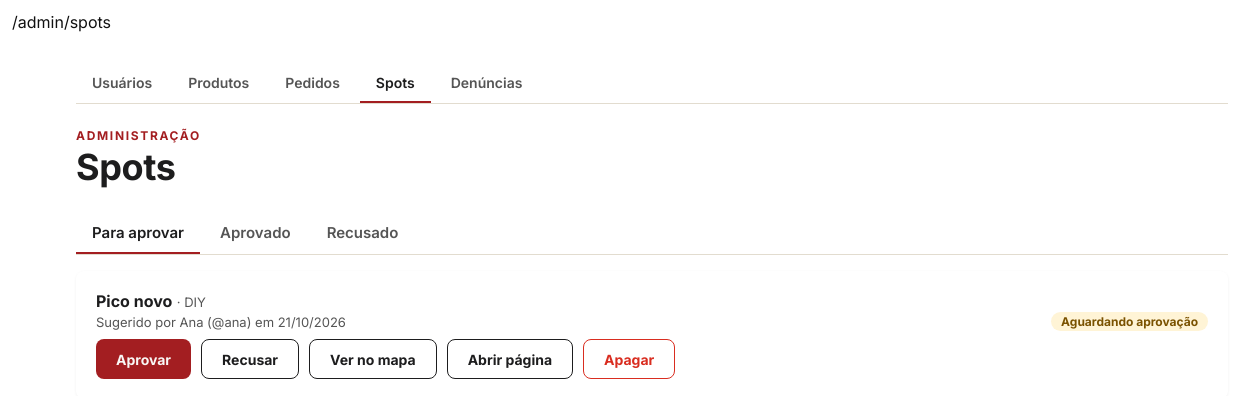
Test case: painel: spots › aprova uma sugestão e recarrega a fila
Expected: the text "Sugerido por Ana (@ana) em 21/10/2026" is shown, [96,314,346,330]
Click the button "Aprovar" at point(144, 359), box [96,339,191,379]
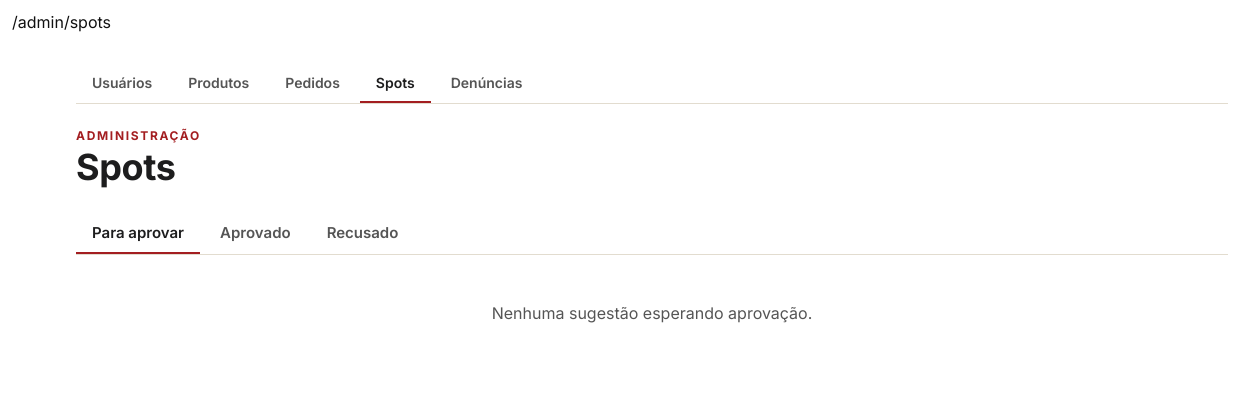
Now the text "Nenhuma sugestão esperando aprovação." is shown, box [492,303,812,323]
